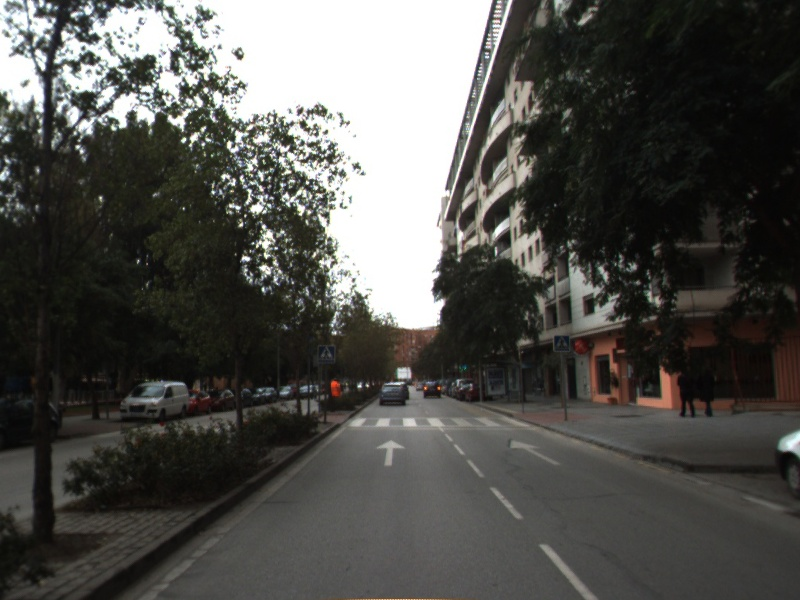STRAIGHT: (508, 438, 564, 468), (374, 438, 407, 467)
